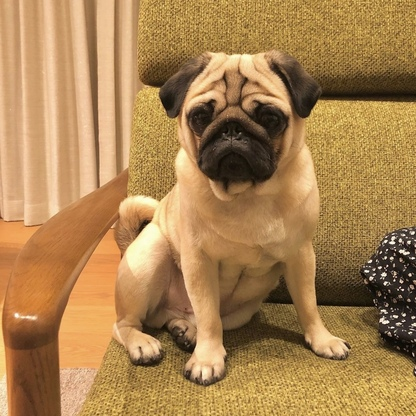Pug: (106, 44, 355, 389)
